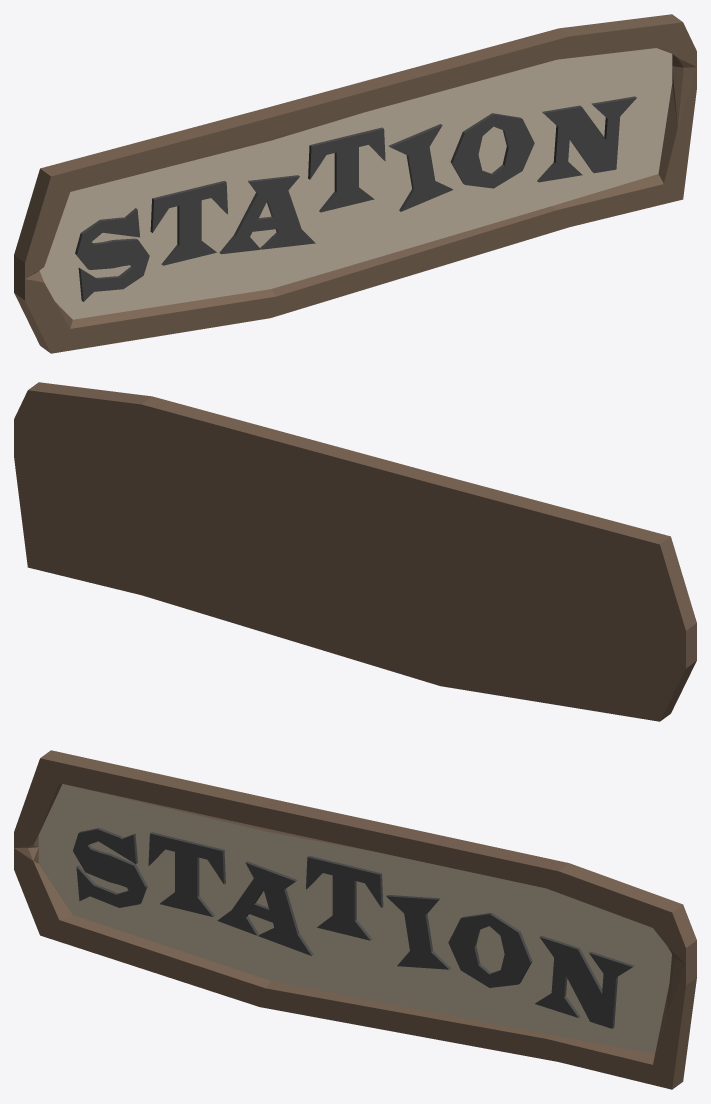
The model's file is Signboard_Station.fbx.
The picture shows the model from 3 angles, top to bottom: view 1: azimuth 30°, elevation 25°; view 2: azimuth 150°, elevation 25°; view 3: azimuth 330°, elevation 25°; orthographic projection.
Visible parts, largest first — view 1: Signboard_Station; view 2: Signboard_Station; view 3: Signboard_Station.
Boxes of the visible parts, box(x1,y1,x2,y2) form: Signboard_Station: box(14, 14, 696, 353); Signboard_Station: box(14, 382, 696, 721); Signboard_Station: box(14, 750, 696, 1089).
Size of the model in its own units: 464 by 13.17 by 138.
